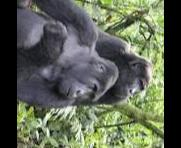gorille_Autres: (16, 0, 107, 111)
